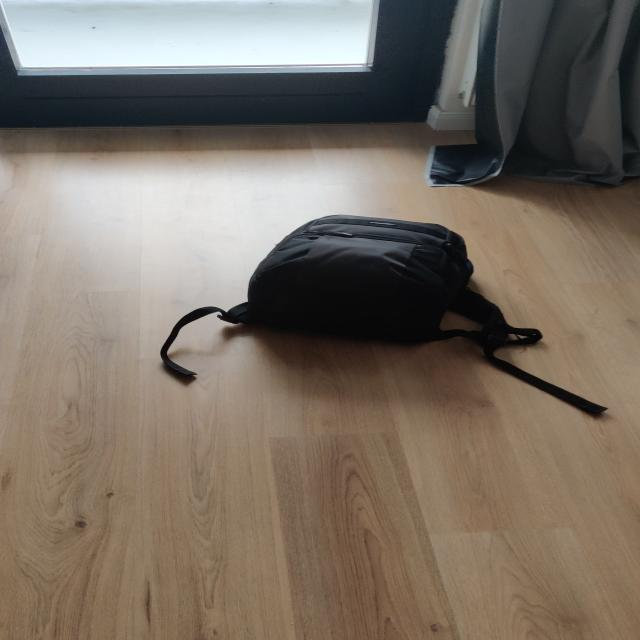backpack: (221, 210, 493, 346)
